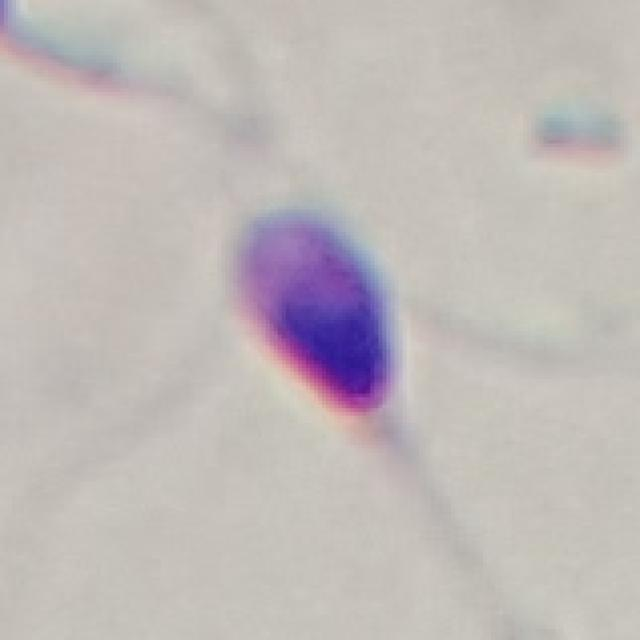normal sperm: (230, 207, 430, 495)
